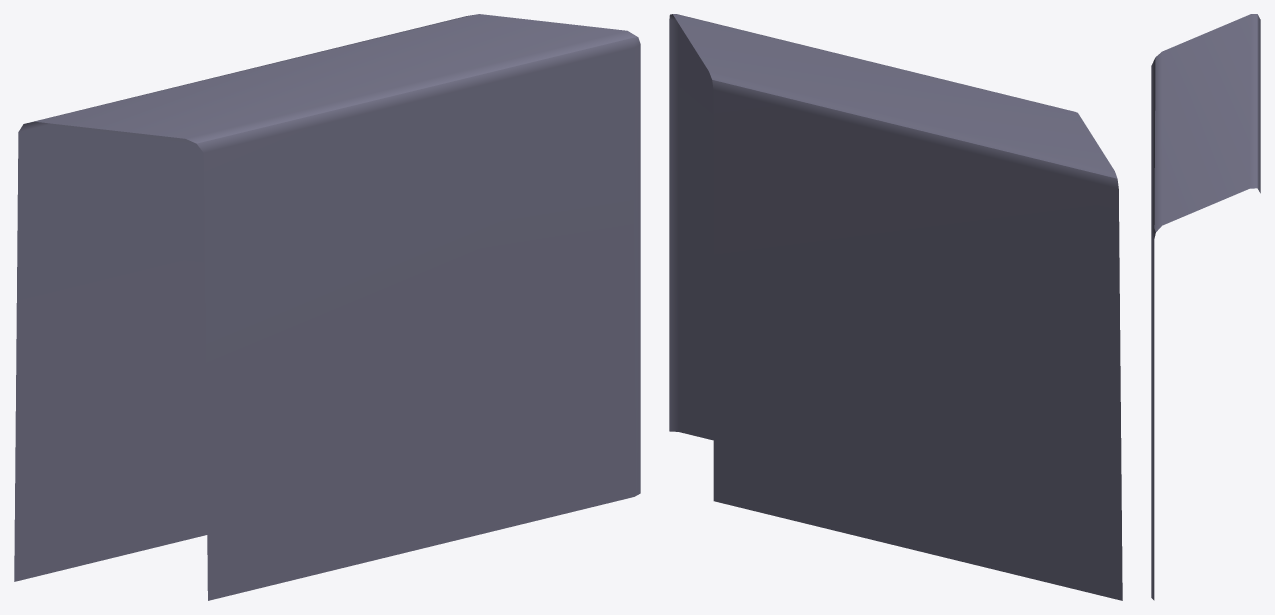
Rendered from SM_BaseS.fbx.
3 views of the same model, side by side, from view 1: azimuth 30°, elevation 25°; view 2: azimuth 150°, elevation 25°; view 3: azimuth 270°, elevation 25° (orthographic). The views are drawn at different scales.
Parts seen in each view (by area): view 1: pCube7; view 2: pCube7; view 3: pCube7.
Boxes of the visible parts, x1,y1,x2,y2 form: pCube7: (14,14,640,600); pCube7: (669,14,1122,600); pCube7: (1151,14,1260,600).
Size of the model in its own units: 382 by 300 by 80.
